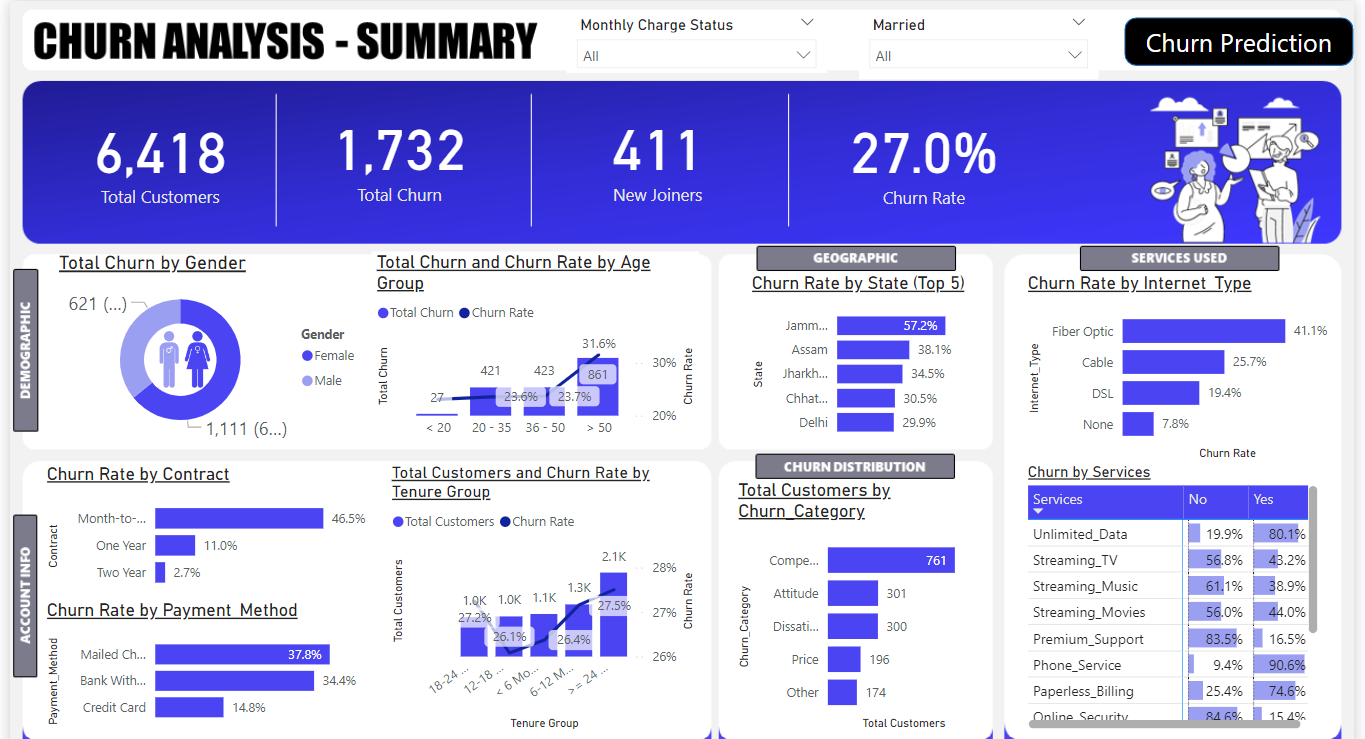

This screenshot's page, from the dashboard's own definition file:
{"tool":"powerbi","page":{"name":"Summary","canvas":[1280,720],"ordinal":0},"visuals":[{"type":"image","box":[124,300,84,80],"z":0},{"type":"card","fields":{"Values":["tbl_measures.Total Customers"]},"box":[26,86,234,124],"z":1000},{"type":"card","fields":{"Values":["tbl_measures.Total Churn"]},"box":[248,86,244,120],"z":2000},{"type":"card","fields":{"Values":["tbl_measures.New Joiners"]},"box":[491.7,83.3,250,125],"z":3000},{"type":"card","fields":{"Values":["tbl_measures.Churn Rate"]},"box":[730,88.3,280,120],"z":4000},{"type":"donutChart","fields":{"Category":["prod_Churn.Gender"],"Y":["tbl_measures.Total Churn"]},"box":[41.8,239.1,301.8,185.5],"z":5000},{"type":"lineStackedColumnComboChart","fields":{"Category":["mapping_agegrp.Age Group"],"Y":["tbl_measures.Total Churn"],"Y2":["tbl_measures.Churn Rate"]},"box":[344,238,312,186],"z":6000},{"type":"clusteredBarChart","fields":{"Category":["prod_Churn.Payment_Method"],"Y":["tbl_measures.Churn Rate"]},"box":[30,570,314,128],"z":7000},{"type":"clusteredBarChart","fields":{"Category":["prod_Churn.Contract"],"Y":["tbl_measures.Churn Rate"]},"box":[30,440,314,130],"z":8000},{"type":"lineStackedColumnComboChart","fields":{"Category":["mapping_tenuregrp.Tenure Group"],"Y":["tbl_measures.Total Customers"],"Y2":["tbl_measures.Churn Rate"]},"box":[358,440,298,258],"z":9000},{"type":"clusteredBarChart","title":"Churn Rate by State (Top 5)","fields":{"Category":["prod_Churn.State"],"Y":["tbl_measures.Churn Rate"]},"box":[702,258,226,166],"z":10000},{"type":"clusteredBarChart","fields":{"Category":["prod_Churn.Churn_Category"],"Y":["tbl_measures.Total Customers"]},"box":[688,456,240,242],"z":11000},{"type":"clusteredBarChart","fields":{"Category":["prod_Churn.Internet_Type"],"Y":["tbl_measures.Churn Rate"]},"box":[964,258,300,182],"z":12000},{"type":"pivotTable","title":"Churn by Services","fields":{"Rows":["prod_Services.Services"],"Columns":["prod_Services.Status"],"Values":["Sum(prod_Services.Churn Status)"]},"box":[964,440,286,258],"z":13000},{"type":"slicer","fields":{"Values":["prod_Churn.Monthly Charge Status"]},"box":[530,8,248,60],"z":14000},{"type":"slicer","fields":{"Values":["prod_Churn.Married"]},"box":[808,8,228,66],"z":15000},{"type":"shape","box":[1062,16,218,46],"z":15001}]}

Visuals, with their boxes on the page's 1280x720 design canvas (x1, y1, x2, y2). These are canvas units, not pixel positions in the 1365x739 screenshot, which may show the page scaled, cropped or inside an application window:
image: Rect(124, 300, 208, 380)
card - tbl_measures.Total Customers: Rect(26, 86, 260, 210)
card - tbl_measures.Total Churn: Rect(248, 86, 492, 206)
card - tbl_measures.New Joiners: Rect(492, 83, 742, 208)
card - tbl_measures.Churn Rate: Rect(730, 88, 1010, 208)
donutChart - prod_Churn.Gender x tbl_measures.Total Churn: Rect(42, 239, 344, 425)
lineStackedColumnComboChart - mapping_agegrp.Age Group x tbl_measures.Total Churn: Rect(344, 238, 656, 424)
clusteredBarChart - prod_Churn.Payment_Method x tbl_measures.Churn Rate: Rect(30, 570, 344, 698)
clusteredBarChart - prod_Churn.Contract x tbl_measures.Churn Rate: Rect(30, 440, 344, 570)
lineStackedColumnComboChart - mapping_tenuregrp.Tenure Group x tbl_measures.Total Customers: Rect(358, 440, 656, 698)
"Churn Rate by State (Top 5)" clusteredBarChart: Rect(702, 258, 928, 424)
clusteredBarChart - prod_Churn.Churn_Category x tbl_measures.Total Customers: Rect(688, 456, 928, 698)
clusteredBarChart - prod_Churn.Internet_Type x tbl_measures.Churn Rate: Rect(964, 258, 1264, 440)
"Churn by Services" pivotTable: Rect(964, 440, 1250, 698)
slicer - prod_Churn.Monthly Charge Status: Rect(530, 8, 778, 68)
slicer - prod_Churn.Married: Rect(808, 8, 1036, 74)
shape: Rect(1062, 16, 1280, 62)
